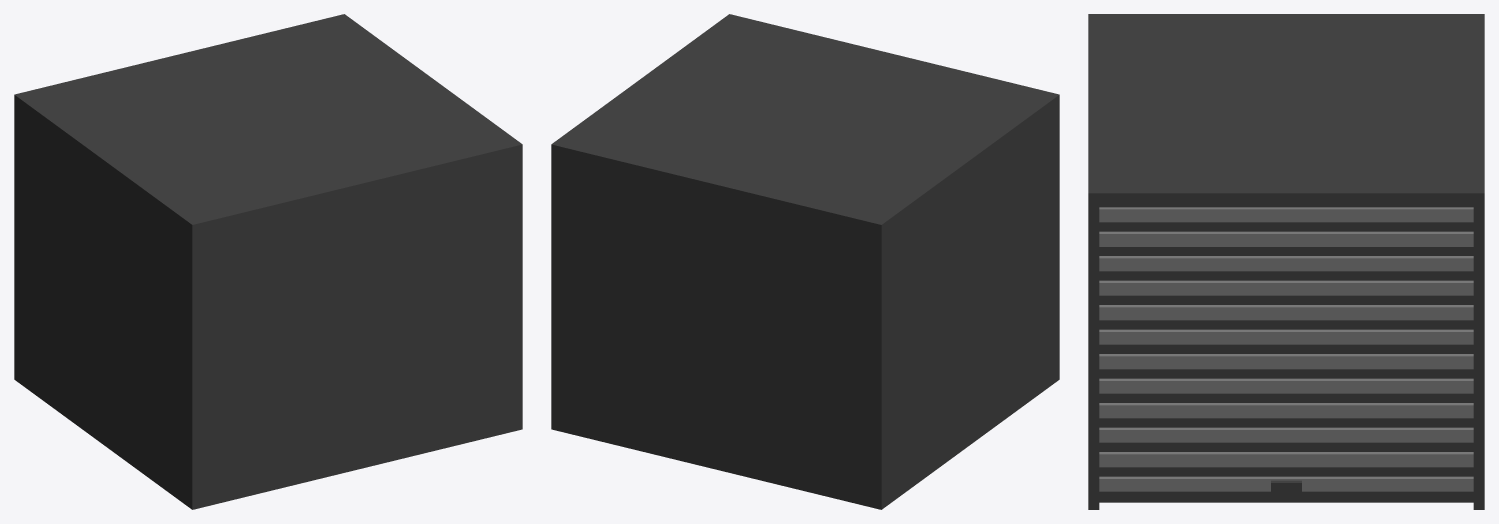
Rendered from garage_Closed.fbx.
3 views of the same model, side by side, from view 1: azimuth 30°, elevation 25°; view 2: azimuth 150°, elevation 25°; view 3: azimuth 270°, elevation 25° (orthographic). The views are drawn at different scales.
Parts seen in each view (by area): view 1: garage_Closed; view 2: garage_Closed; view 3: garage_Closed.
Boxes of the visible parts, bbox=[...] form: garage_Closed: bbox=[14, 14, 522, 509]; garage_Closed: bbox=[551, 14, 1059, 509]; garage_Closed: bbox=[1088, 14, 1484, 509].
Size of the model in its own units: 471 by 388 by 440.
1 material, 1 textured.
